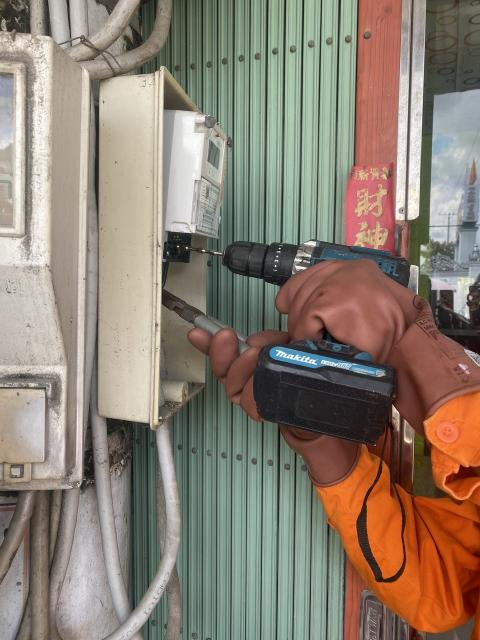gloves: (286, 254, 479, 434), (196, 316, 370, 494)
